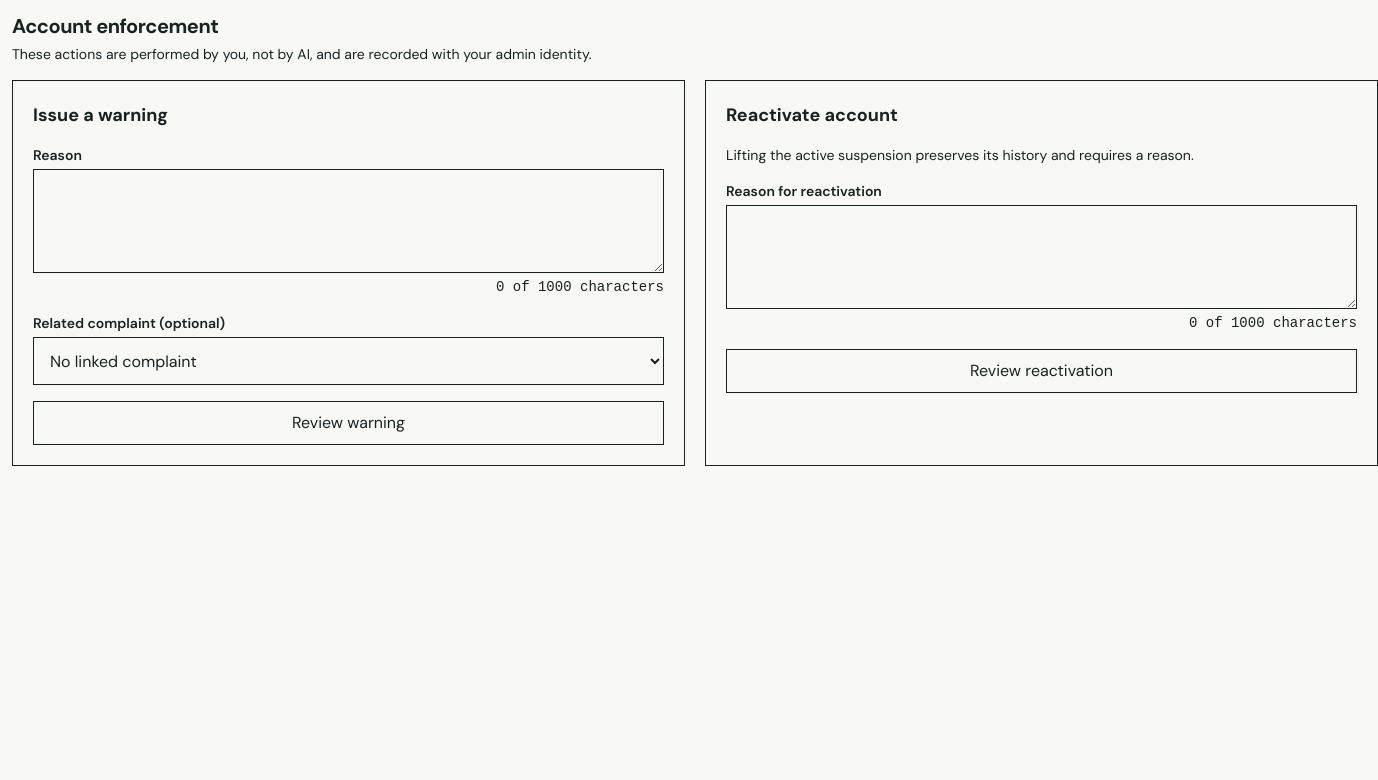
Test: RiderEnforcementActions (OA-FR-21, OA-FR-23, OA-FR-28, CS455-54) › requires confirmation before reactivation and reports the saved result
Type "Review completed." into the text box labelled "Reason for reactivation" at (1042, 257), box [726,205,1357,309]
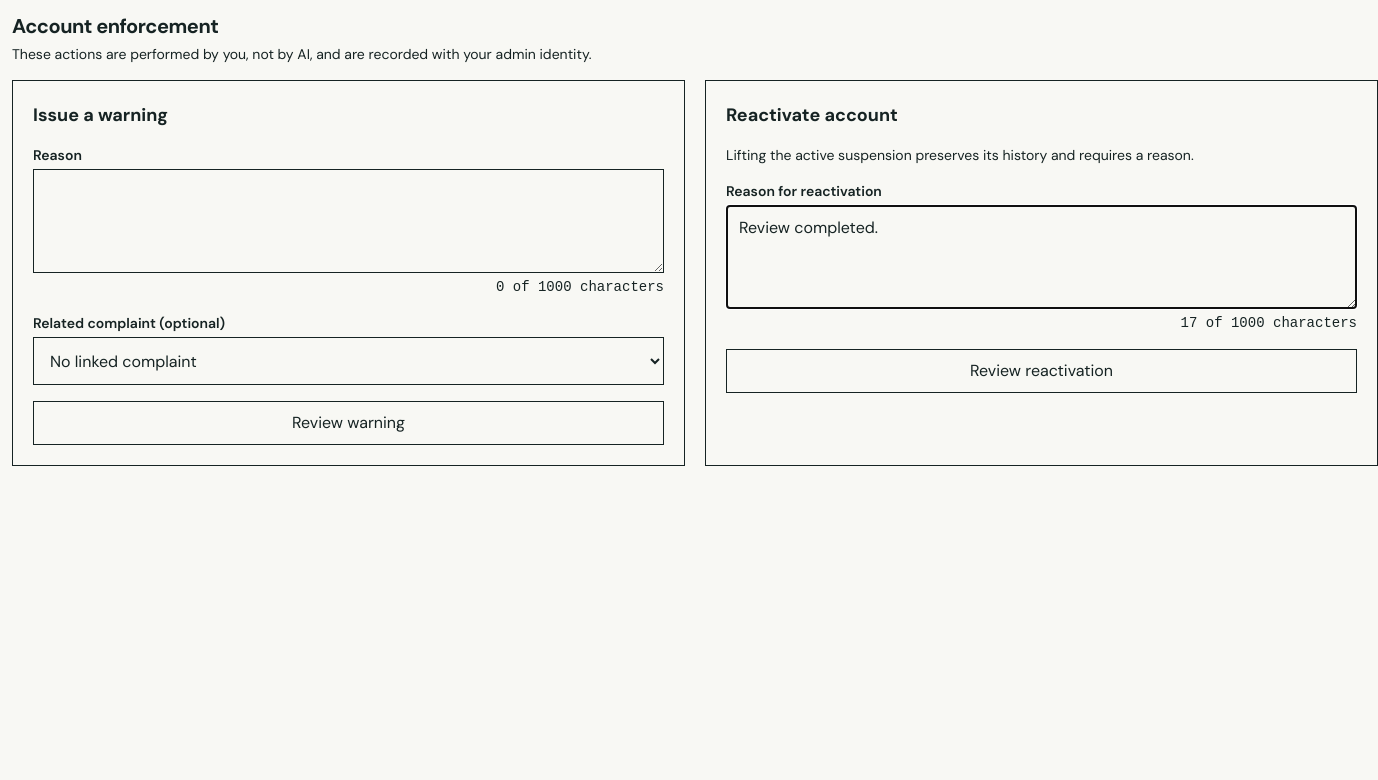
Click the button "Review reactivation" at (1042, 371), box [726,349,1357,393]
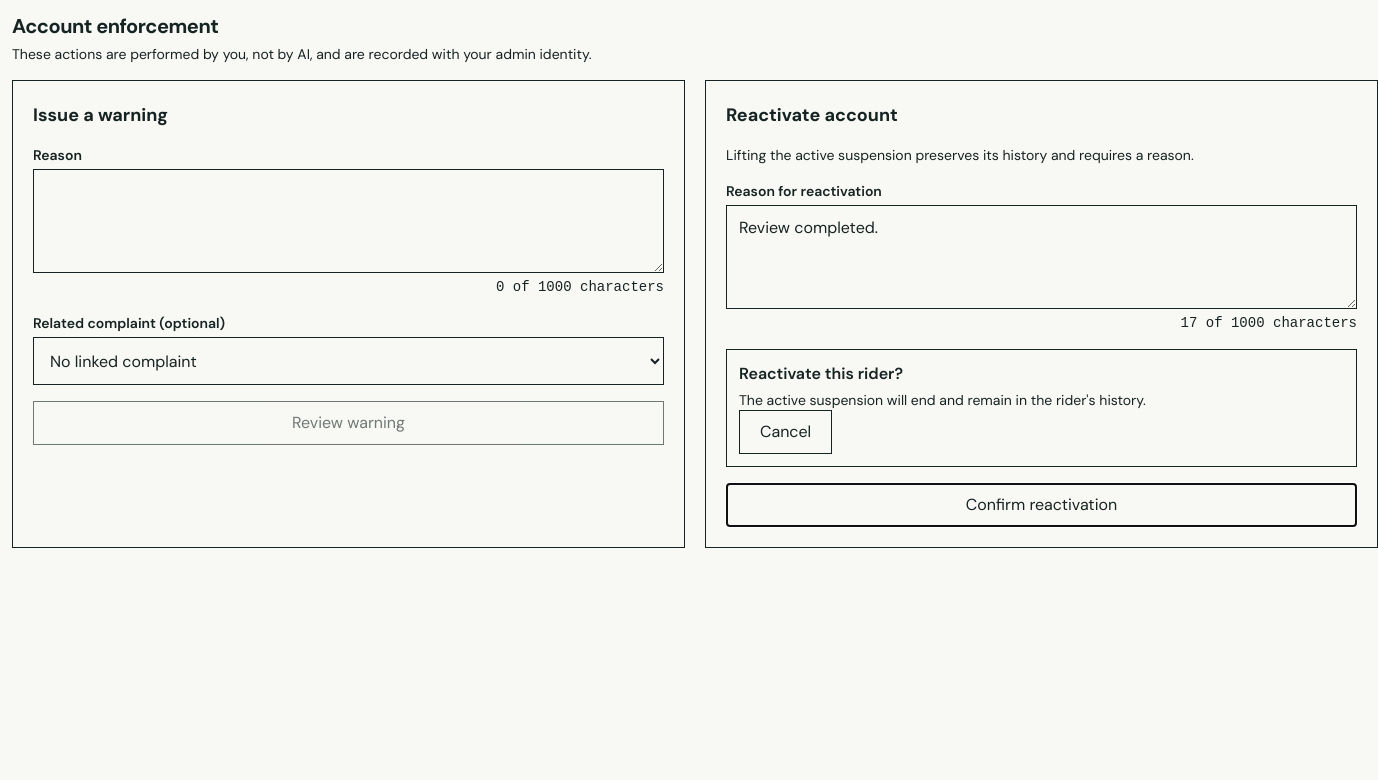
Expected: the text "Reactivate this rider?" is shown, [739,363,903,384]
Click the button "Confirm reactivation" at (1042, 505), box [726,483,1357,527]
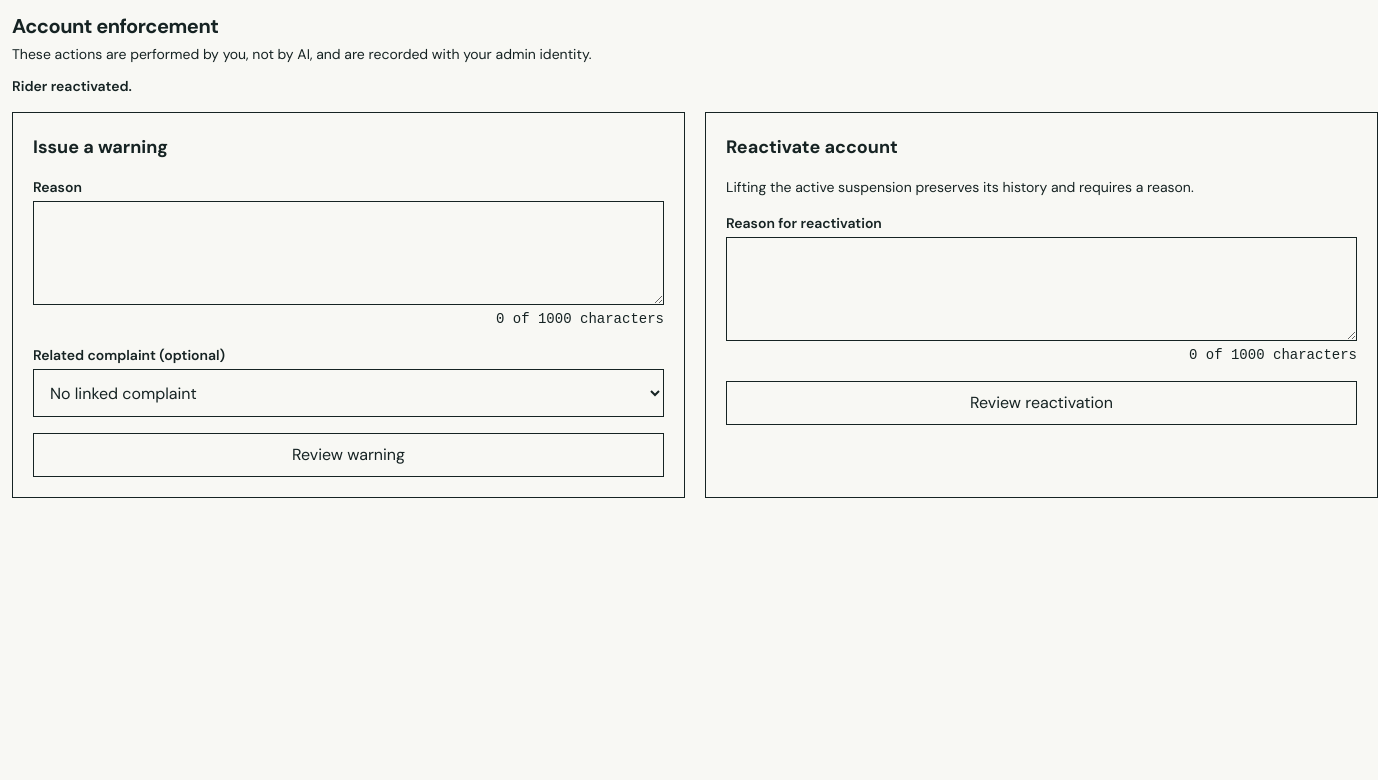
Expected: the message reads "Rider reactivated.", [12,77,132,95]
